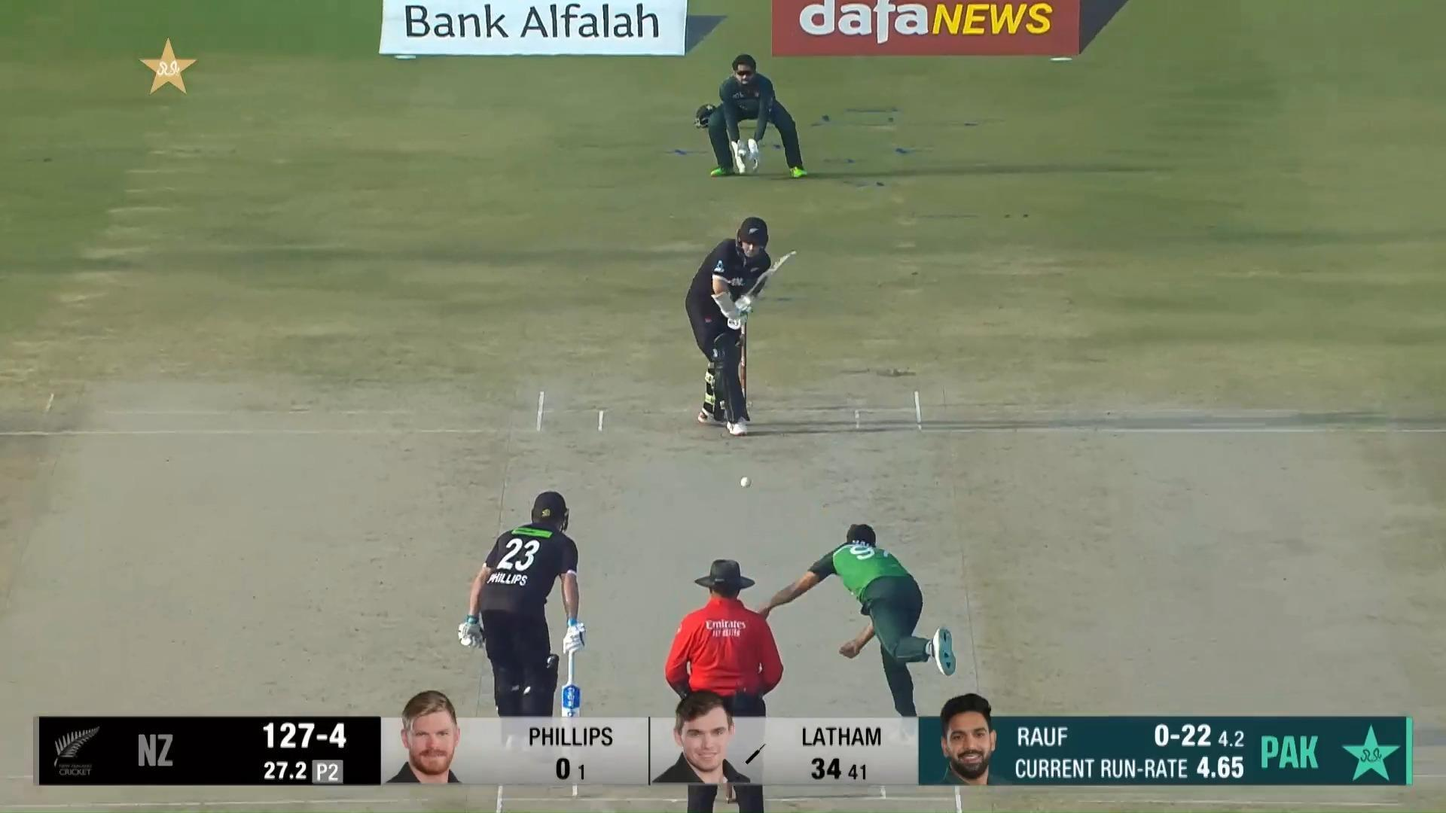BM 1: (685, 217, 798, 436)
BO: (751, 522, 960, 751)
